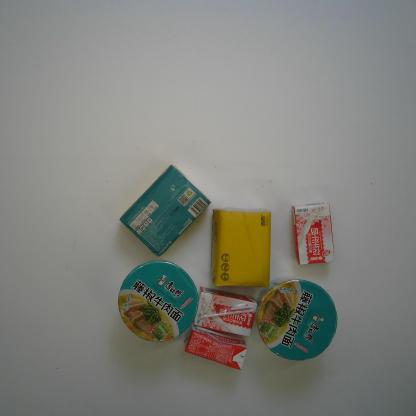Instant Noodles: (256, 276, 338, 362), (116, 259, 199, 343)
Milk: (193, 286, 258, 338), (184, 321, 249, 371), (290, 201, 336, 266)
Tissue: (119, 164, 212, 257), (208, 206, 272, 289)
